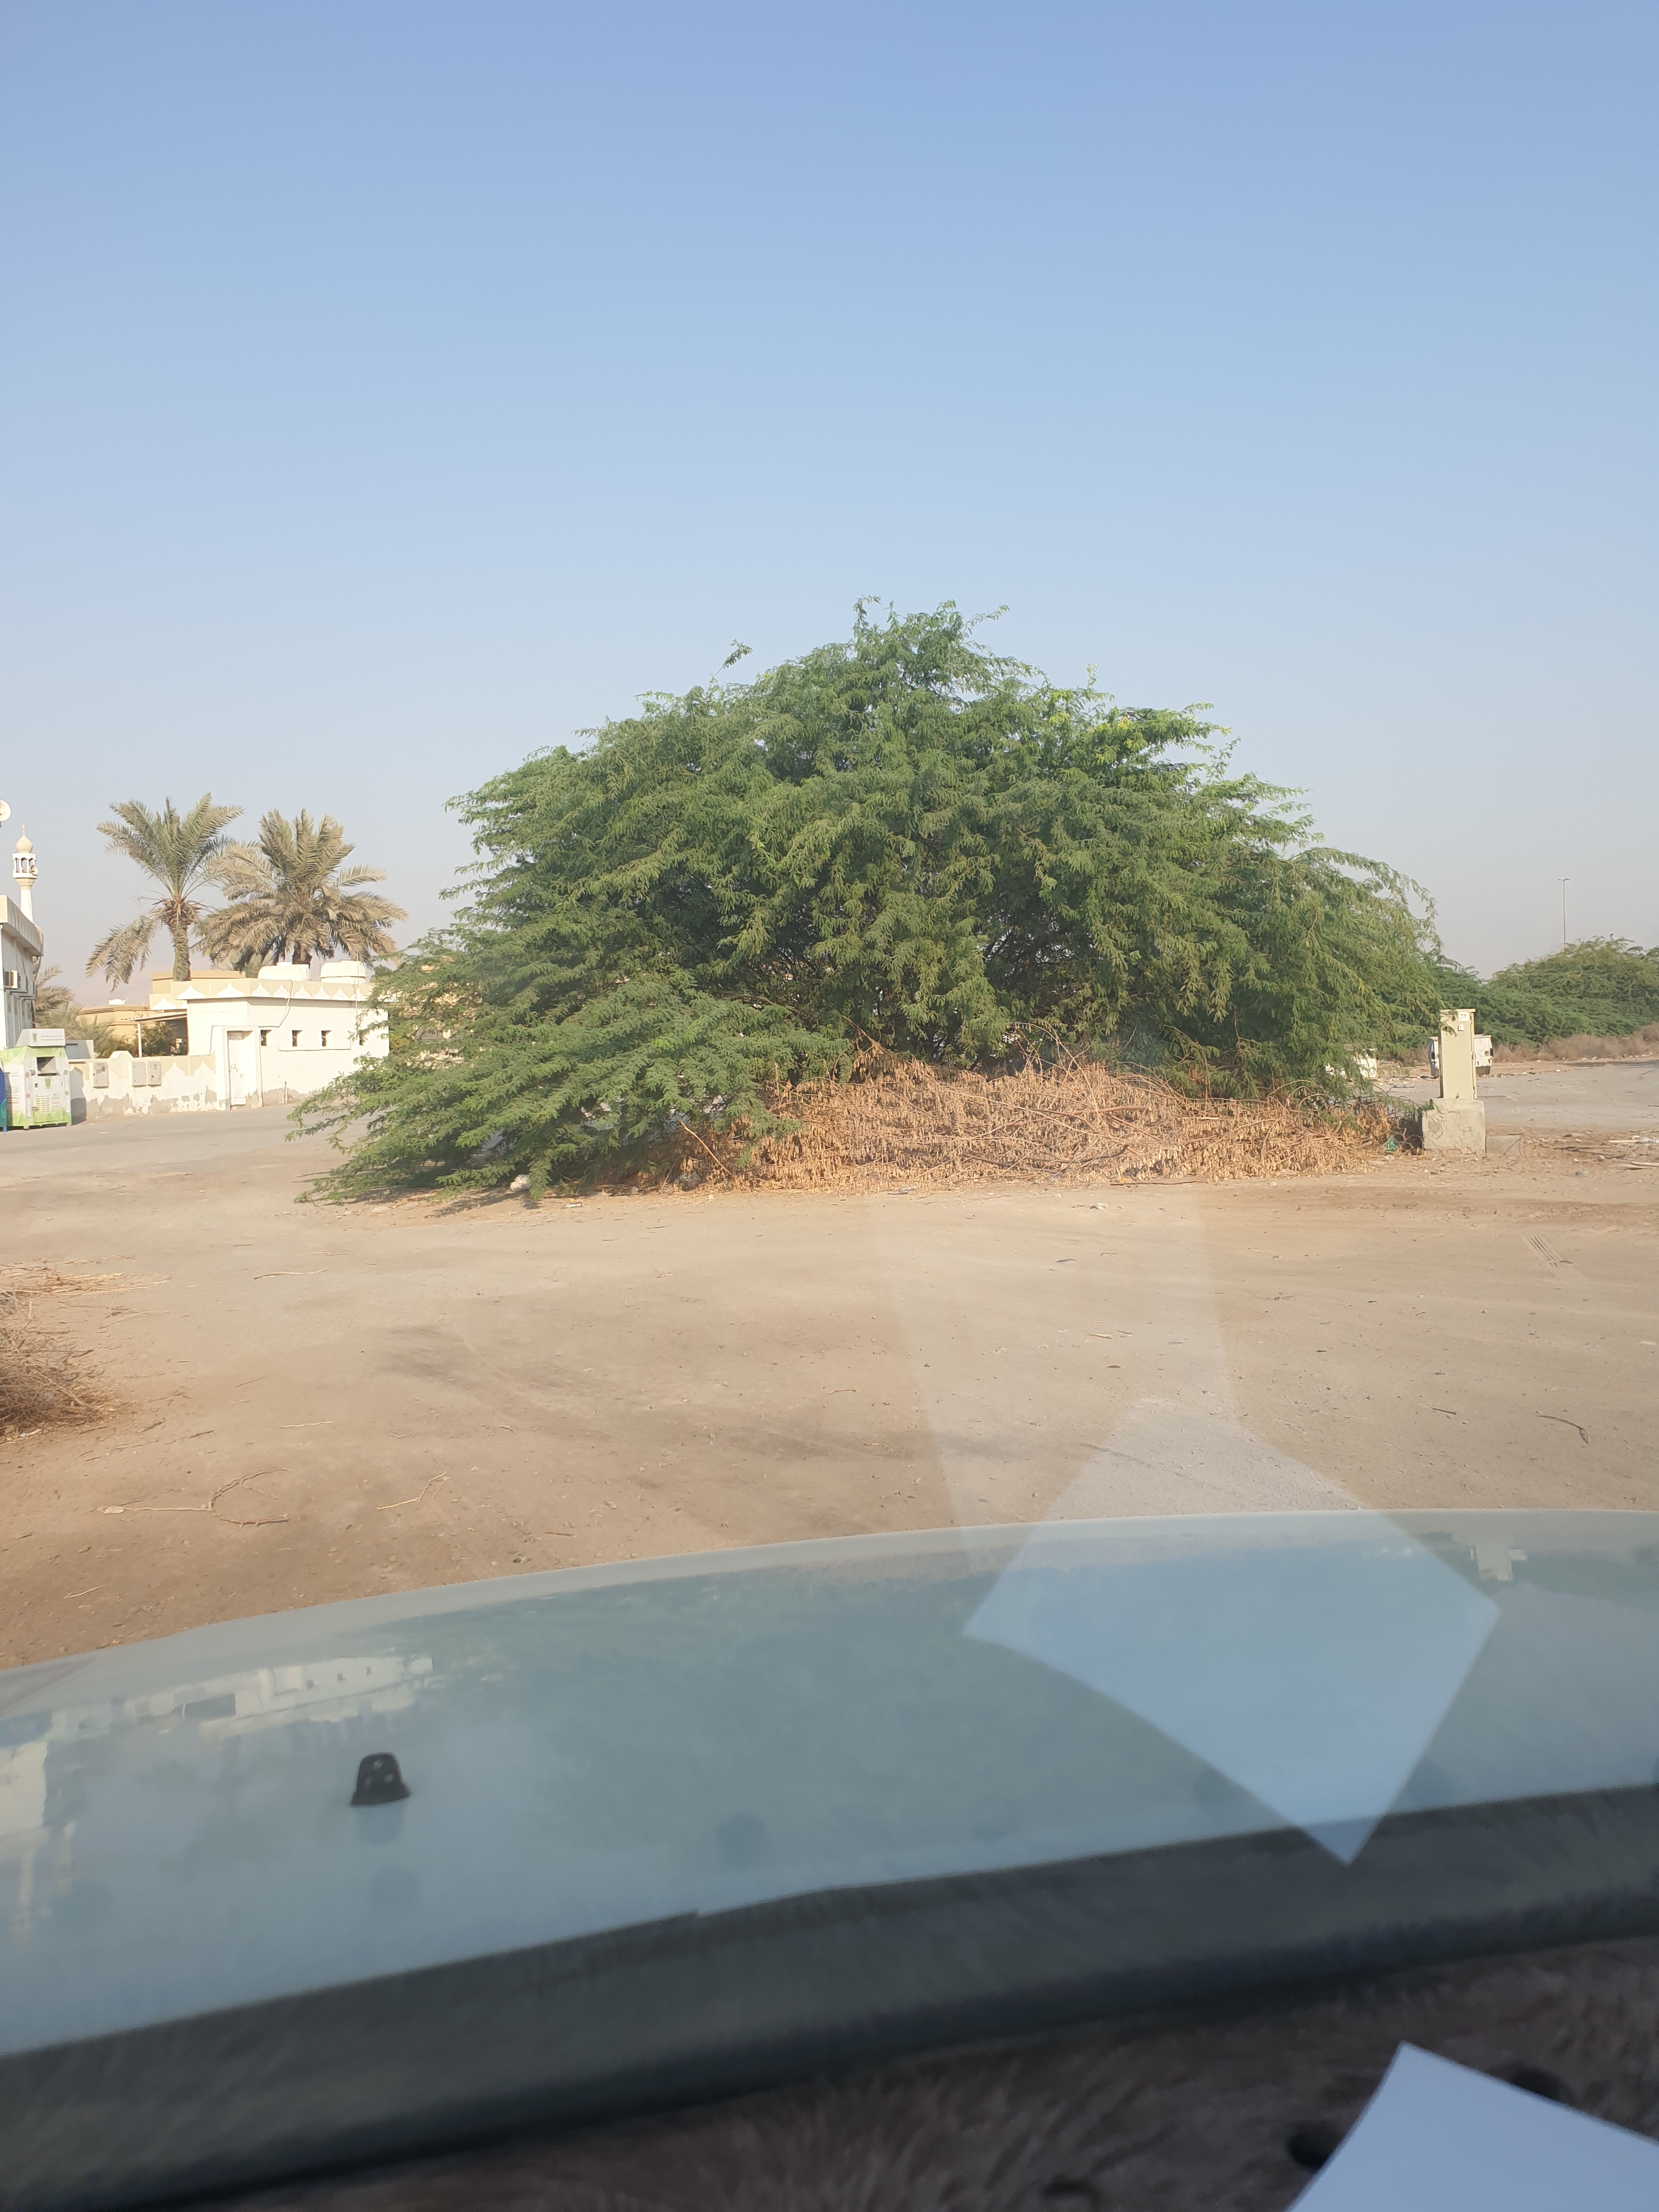fallen_trees: (986, 1096, 1333, 1217), (784, 1141, 1101, 1216), (38, 1350, 173, 1461), (1229, 1134, 1378, 1216), (33, 1205, 122, 1325)
